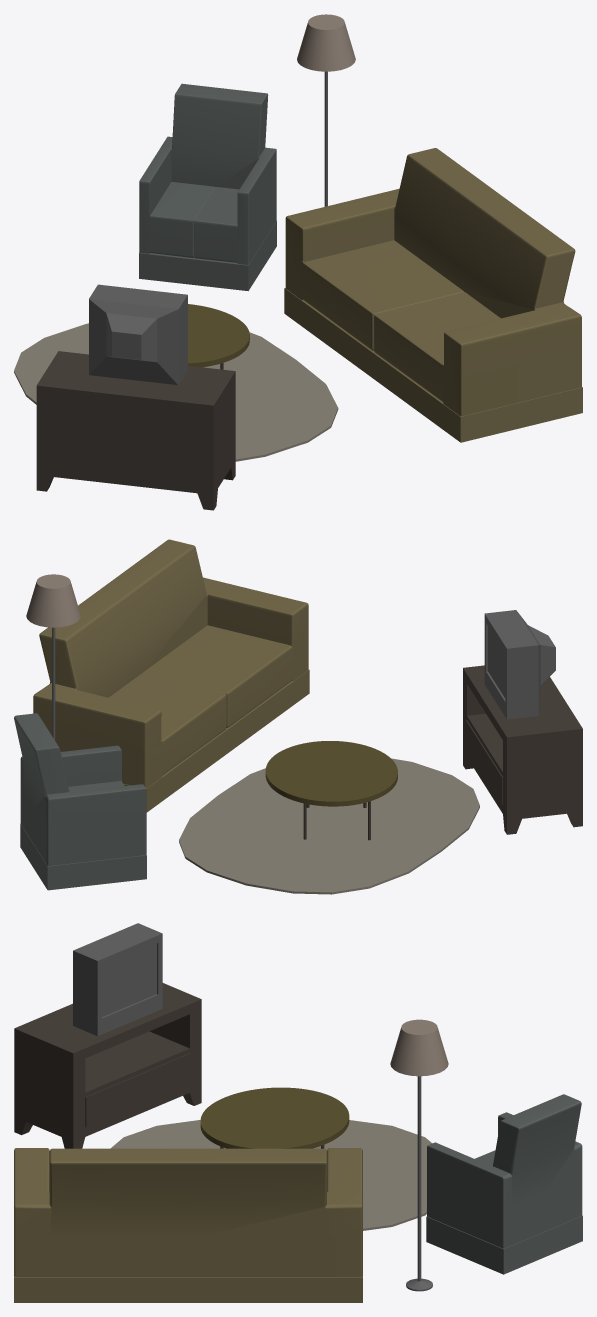
File: living_GRP.fbx
3 renders of one model, top to bottom at view 1: azimuth 30°, elevation 25°; view 2: azimuth 150°, elevation 25°; view 3: azimuth 270°, elevation 25°, orthographic. The views are drawn at different scales.
Parts seen in each view (by area): view 1: pCube30, pCube31, door34, mat1, pCube19, pCylinder2, pCylinder3; view 2: pCube30, mat1, pCube31, door34, pCylinder2, pCube19, pCylinder3; view 3: pCube30, pCube31, door34, mat1, pCube19, pCylinder2, pCylinder3, pCylinder4.
Part boxes in pixels (left/top/right/bottom): pCube30: left=284, top=148, right=582, bottom=442; pCube31: left=139, top=83, right=276, bottom=291; door34: left=36, top=351, right=235, bottom=510; mat1: left=14, top=323, right=338, bottom=461; pCube19: left=89, top=284, right=187, bottom=385; pCylinder2: left=188, top=304, right=249, bottom=367; pCylinder3: left=297, top=14, right=355, bottom=71; pCube30: left=33, top=539, right=309, bottom=812; mat1: left=179, top=758, right=479, bottom=894; pCube31: left=14, top=713, right=146, bottom=890; door34: left=463, top=665, right=582, bottom=834; pCylinder2: left=265, top=741, right=397, bottom=806; pCube19: left=484, top=610, right=555, bottom=719; pCylinder3: left=26, top=574, right=80, bottom=627; pCube30: left=14, top=1148, right=362, bottom=1302; pCube31: left=426, top=1094, right=582, bottom=1274; door34: left=14, top=983, right=201, bottom=1148; mat1: left=110, top=1120, right=432, bottom=1230; pCube19: left=73, top=923, right=162, bottom=1036; pCylinder2: left=200, top=1087, right=349, bottom=1148; pCylinder3: left=390, top=1019, right=448, bottom=1076; pCylinder4: left=406, top=1076, right=432, bottom=1291.
Bounding box in the file's own units: 40.36 × 21.86 × 40.77.
